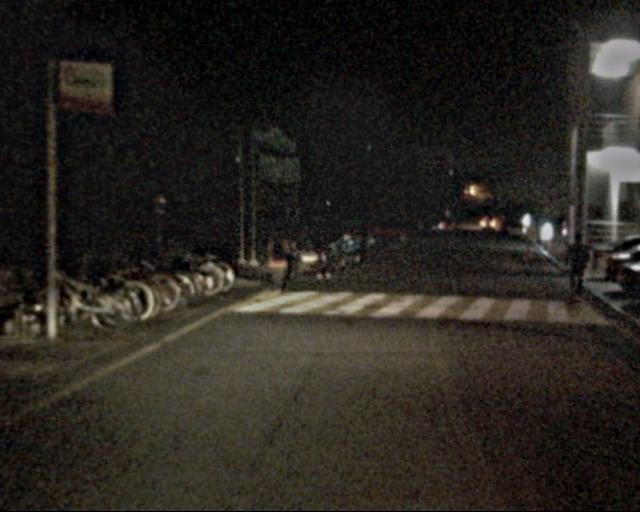person: (561, 234, 591, 308), (262, 226, 291, 297), (312, 222, 334, 275)
